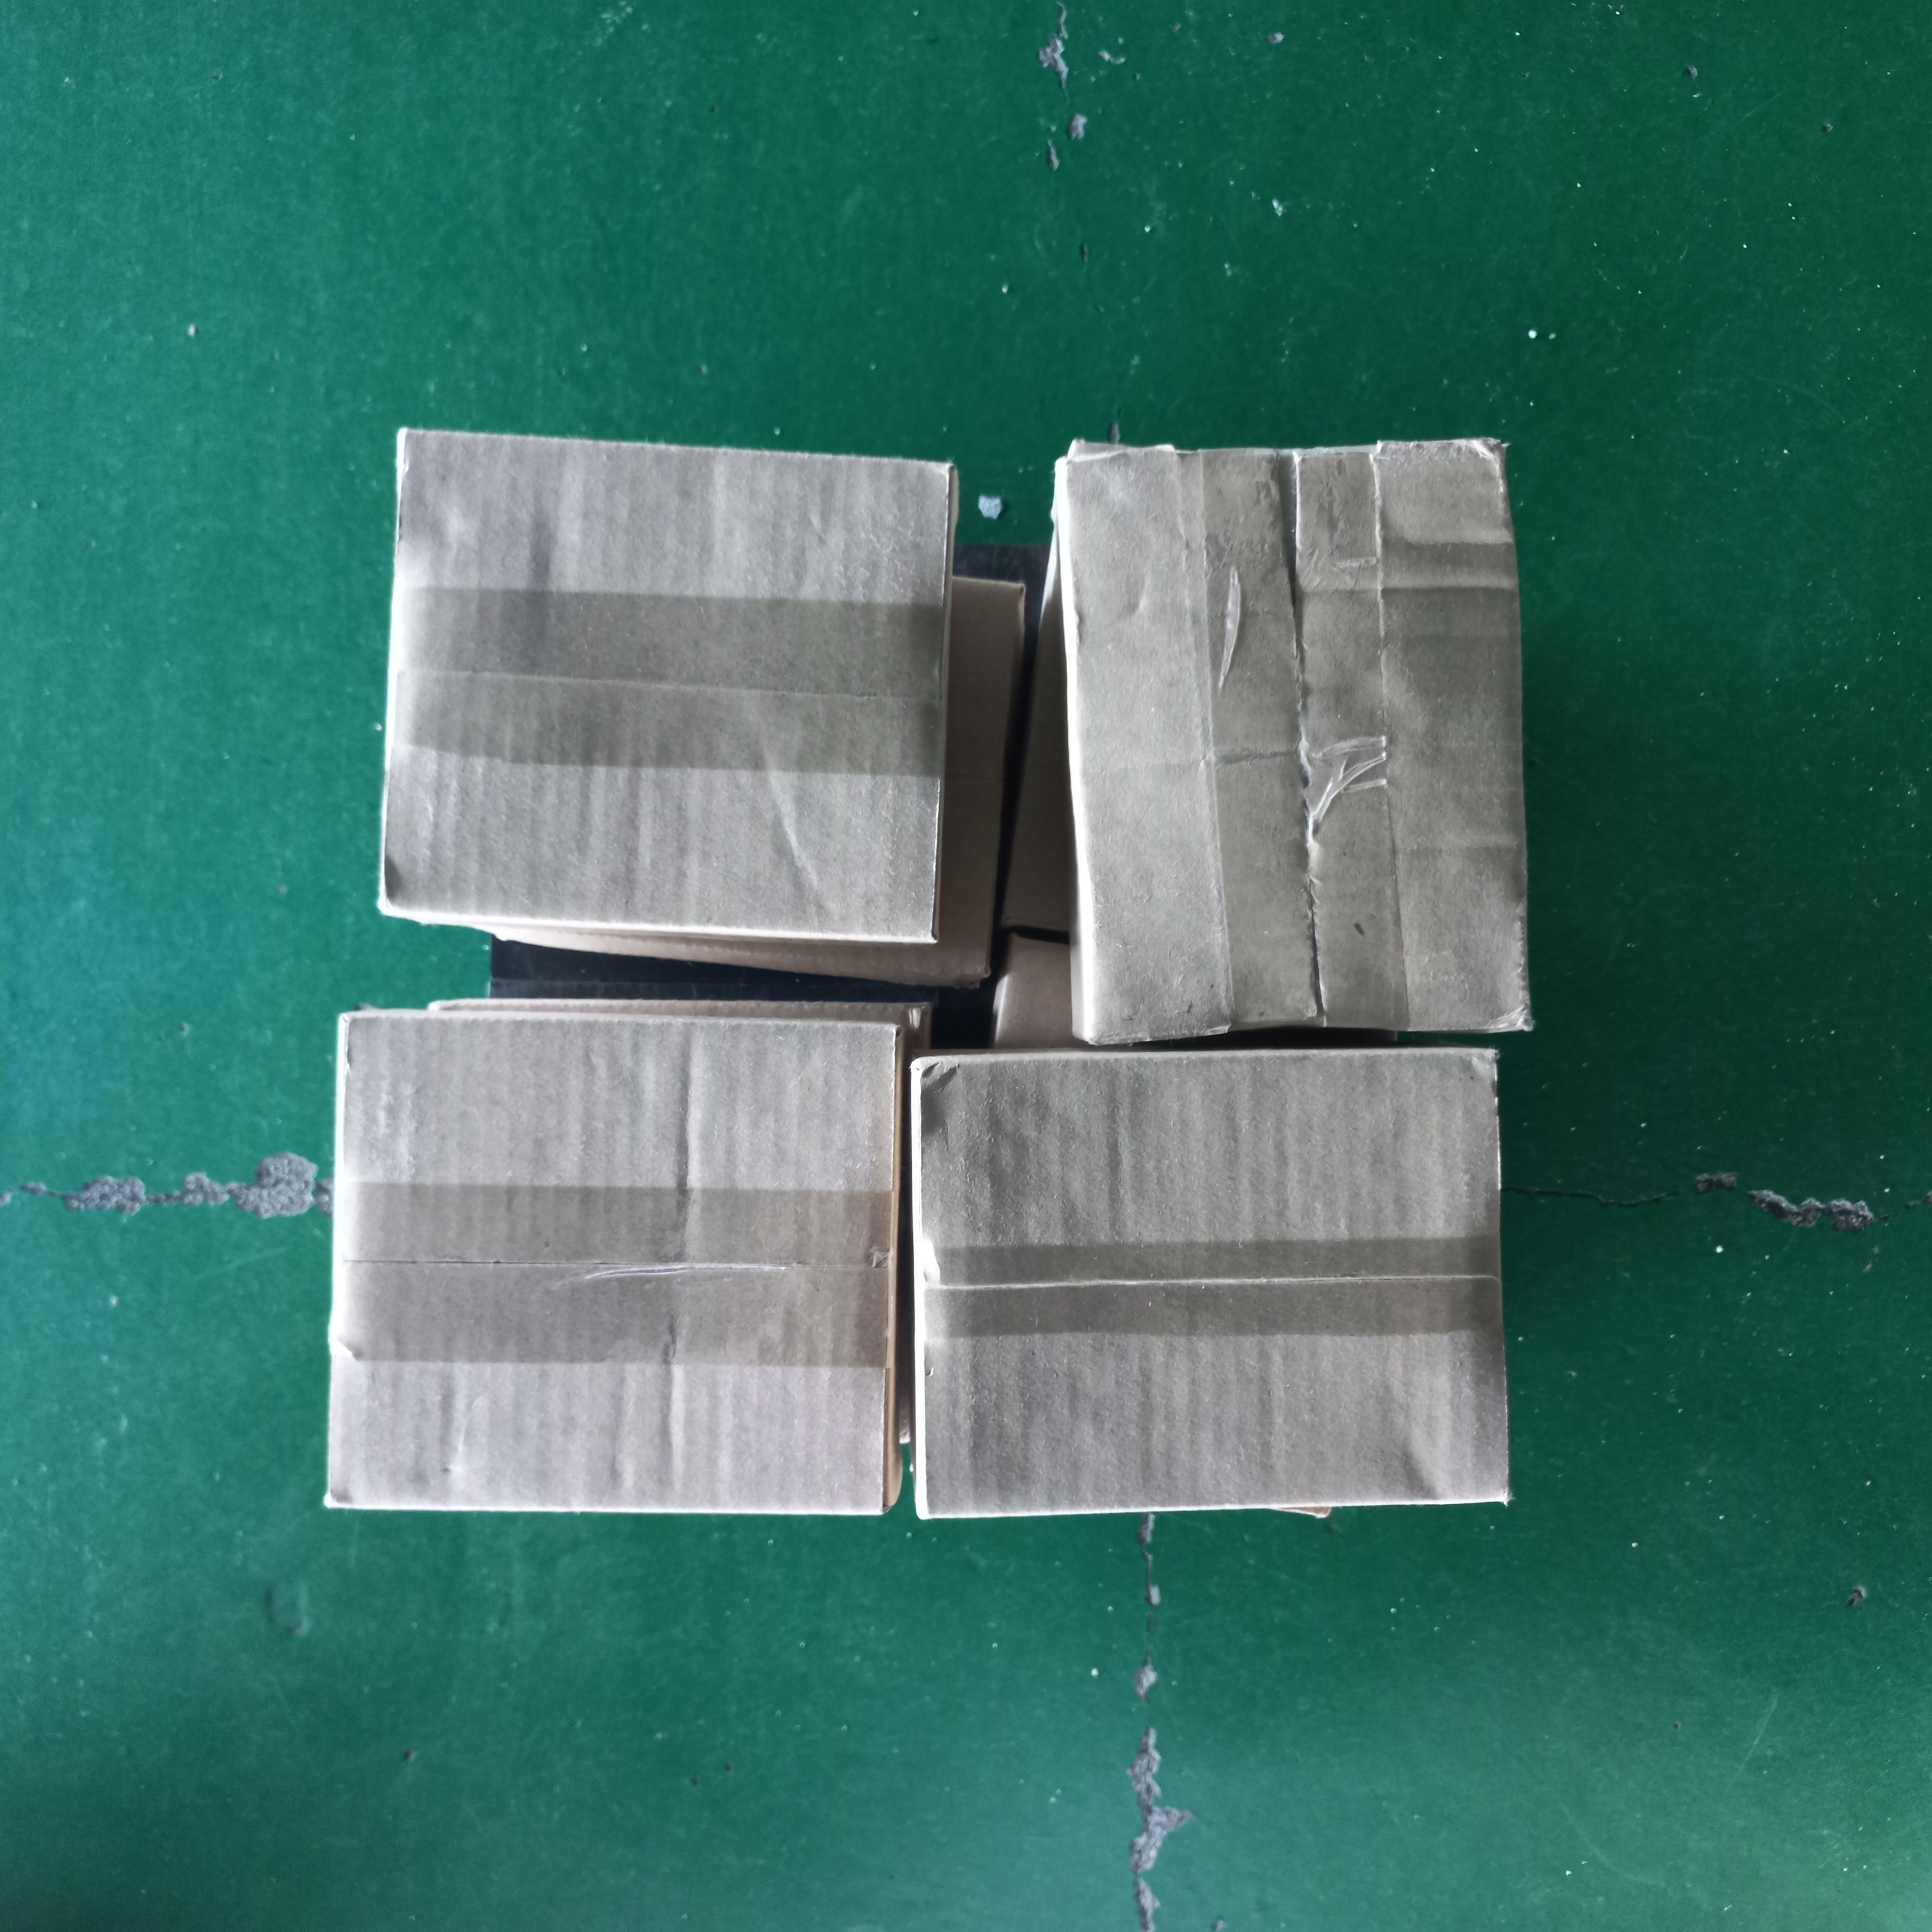box: (1014, 419, 1546, 1056), (356, 409, 971, 955), (1012, 423, 1541, 1047), (356, 418, 961, 947), (322, 996, 909, 1523), (320, 1000, 909, 1522), (909, 1047, 1506, 1527), (909, 1049, 1506, 1527)
